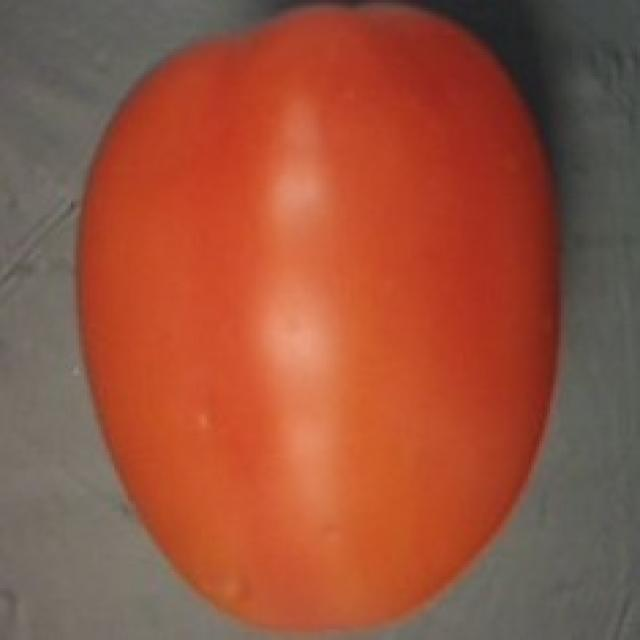ripe tomato: (52, 1, 568, 640)
